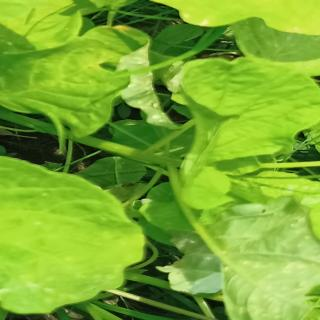karat_putih: (185, 193, 320, 320), (92, 22, 193, 133)
